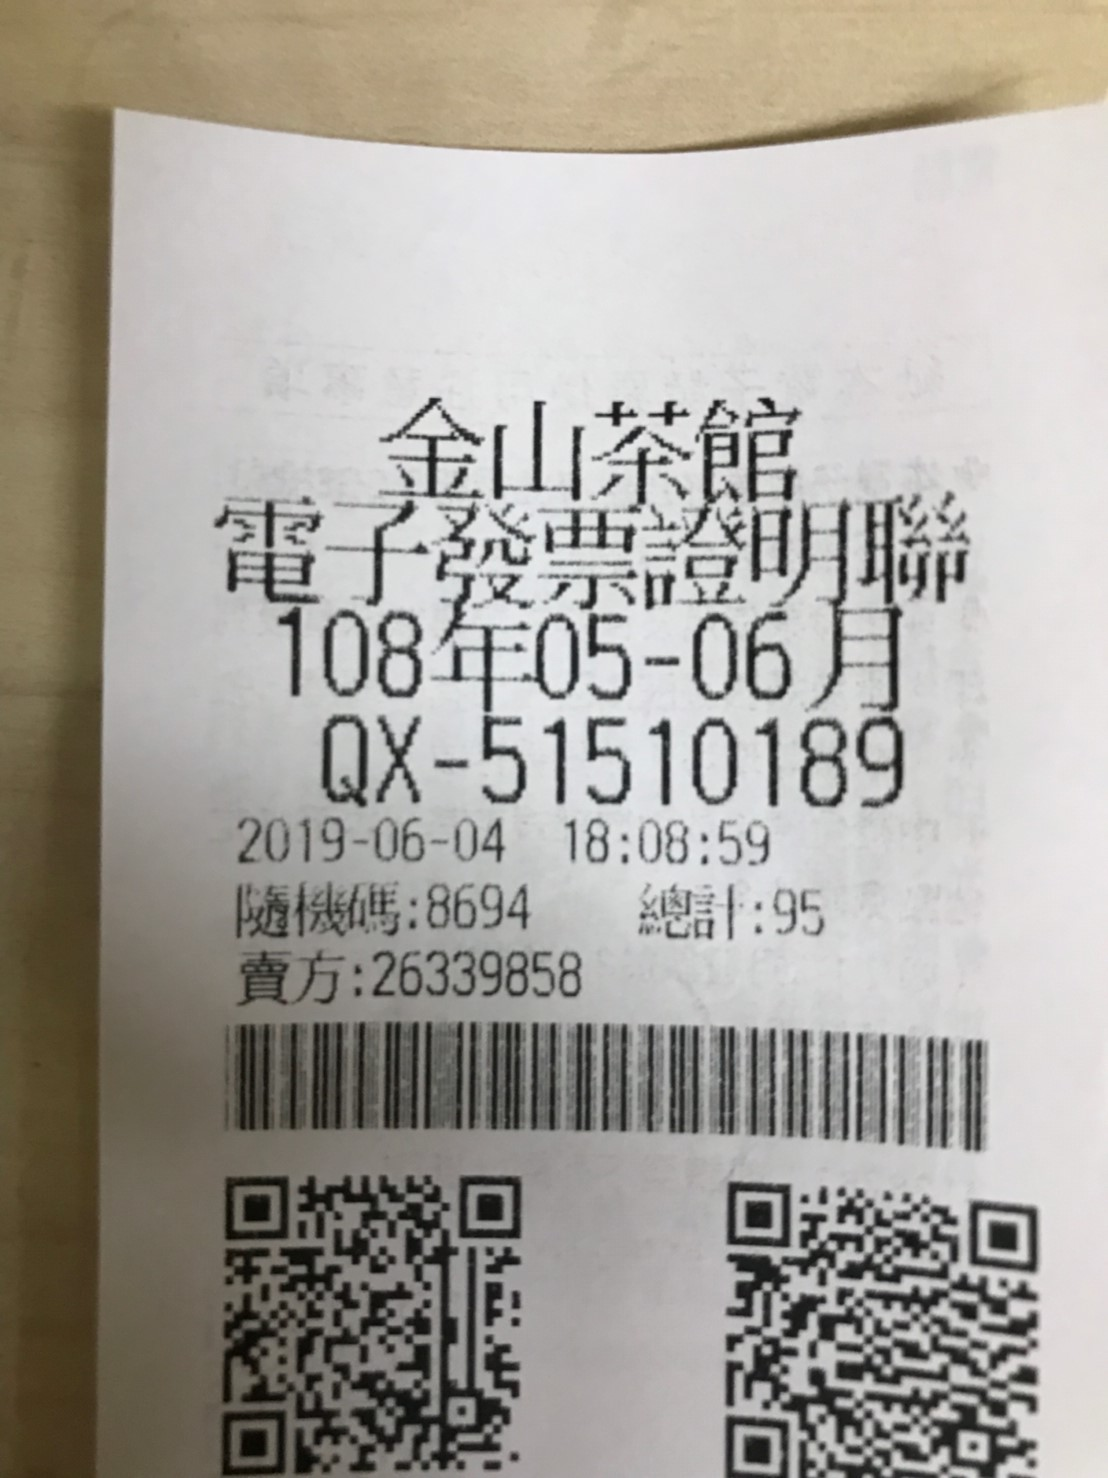Date_New: (277, 602, 904, 713)
Number_New: (475, 713, 905, 806)
